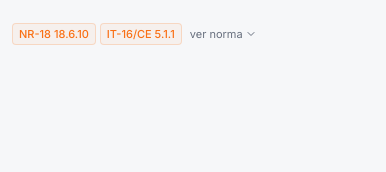
Test: etiquetas de norma › a frase está a um toque de distância
Click the button "ver norma" at x=223, y=34, box [186,12,261,56]
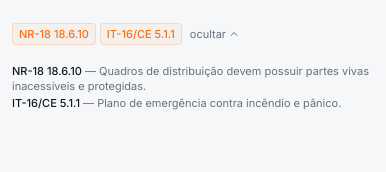
Check: the list item "partes vivas inacessíveis" is shown, box [12,64,369,93]
Check: the list item "Plano de emergência" is shown, box [97,96,341,110]
